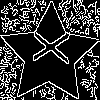X: (24, 30, 69, 65)
